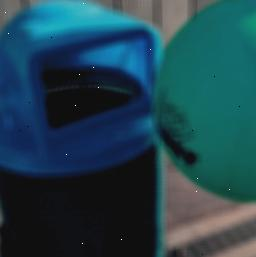algae: (156, 0, 256, 198)
